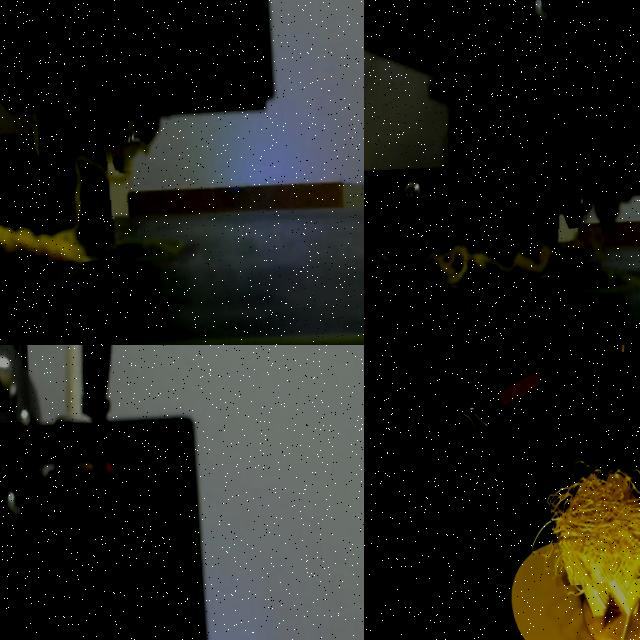spaghetti: (369, 226, 602, 289), (546, 449, 640, 587), (0, 152, 111, 263), (102, 144, 144, 171)
